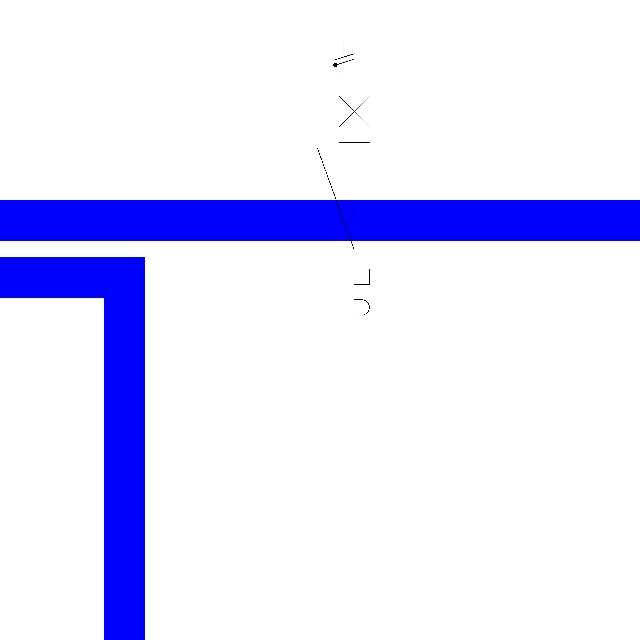interruptor_termomagnetico: (311, 74, 376, 341)
